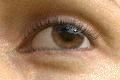eye: (52, 24, 84, 48)
